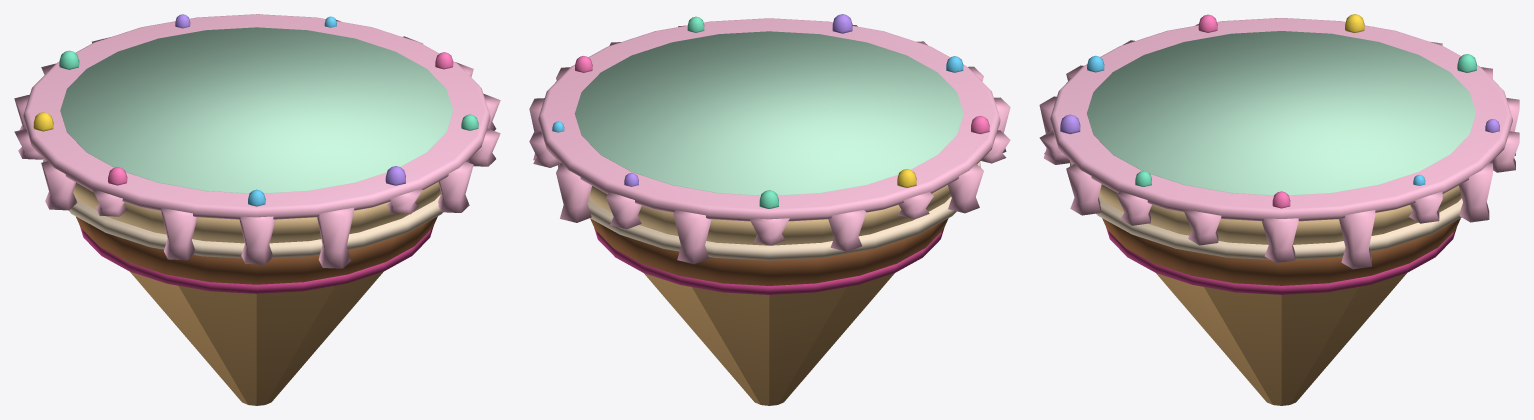
The model's file is candy_shelf.glb.
3 renders of one model, left to right at view 1: azimuth 30°, elevation 25°; view 2: azimuth 150°, elevation 25°; view 3: azimuth 270°, elevation 25°, orthographic.
Parts seen in each view (by area): view 1: C_Shelf__C_mint_8, C_Shelf__C_pink_5, C_Shelf__C_bisc_8, C_Shelf__C_choc_8, C_Shelf__C_van_8, C_Shelf__C_cream_5, C_Shelf__C_pinkd_2, C_Shelf__C_pink_2, C_Shelf__C_mint_2, C_Shelf__C_lilac_2; view 2: C_Shelf__C_mint_8, C_Shelf__C_pink_5, C_Shelf__C_bisc_8, C_Shelf__C_choc_8, C_Shelf__C_cream_5, C_Shelf__C_van_8, C_Shelf__C_pinkd_2, C_Shelf__C_mint_2, C_Shelf__C_pink_2, C_Shelf__C_lilac_2; view 3: C_Shelf__C_mint_8, C_Shelf__C_pink_5, C_Shelf__C_bisc_8, C_Shelf__C_choc_8, C_Shelf__C_cream_5, C_Shelf__C_van_8, C_Shelf__C_pinkd_2, C_Shelf__C_pink_2, C_Shelf__C_mint_2, C_Shelf__C_lilac_2.
Boxes of the visible parts, x1,y1,x2,y2 form: C_Shelf__C_mint_8: (60,27,453,193); C_Shelf__C_pink_5: (14,14,500,268); C_Shelf__C_bisc_8: (130,272,382,405); C_Shelf__C_choc_8: (76,216,437,284); C_Shelf__C_van_8: (73,182,440,243); C_Shelf__C_cream_5: (43,159,442,258); C_Shelf__C_pinkd_2: (80,226,433,293); C_Shelf__C_pink_2: (108,52,453,185); C_Shelf__C_mint_2: (59,50,478,130); C_Shelf__C_lilac_2: (175,14,405,185); C_Shelf__C_mint_8: (574,31,963,195); C_Shelf__C_pink_5: (529,18,1010,264); C_Shelf__C_bisc_8: (644,273,894,405); C_Shelf__C_choc_8: (590,218,948,285); C_Shelf__C_cream_5: (558,161,980,260); C_Shelf__C_van_8: (589,185,951,245); C_Shelf__C_pinkd_2: (594,228,943,294); C_Shelf__C_mint_2: (687,16,778,208); C_Shelf__C_pink_2: (575,56,989,134); C_Shelf__C_lilac_2: (624,14,852,186); C_Shelf__C_mint_8: (1087,31,1476,195); C_Shelf__C_pink_5: (1039,18,1519,269); C_Shelf__C_bisc_8: (1156,273,1406,405); C_Shelf__C_choc_8: (1102,218,1460,285); C_Shelf__C_cream_5: (1070,161,1462,259); C_Shelf__C_van_8: (1099,184,1461,244); C_Shelf__C_pinkd_2: (1106,228,1456,294); C_Shelf__C_pink_2: (1198,14,1290,208); C_Shelf__C_mint_2: (1135,54,1476,186); C_Shelf__C_lilac_2: (1060,114,1499,134).
Bounding box in the file's own units: 17.33 × 11.7 × 17.02.
